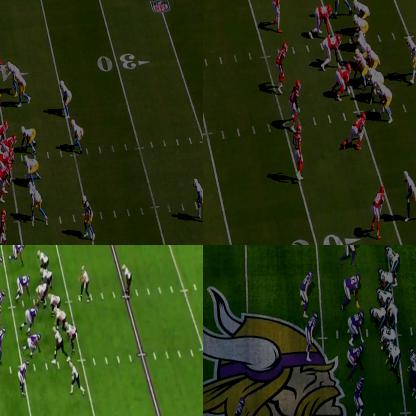CENTER: (351, 49, 367, 89), (368, 306, 384, 334), (2, 135, 19, 150), (36, 284, 46, 306)
DB: (370, 188, 384, 236), (272, 0, 285, 32), (193, 178, 202, 220), (18, 360, 28, 394), (233, 395, 247, 415), (8, 60, 20, 73)
LB: (15, 69, 29, 110), (288, 85, 300, 132), (302, 269, 314, 316), (293, 126, 303, 182), (305, 316, 317, 360), (70, 116, 84, 153), (276, 43, 286, 94), (353, 375, 364, 415), (84, 195, 94, 235), (62, 80, 72, 119), (0, 327, 5, 365), (0, 291, 5, 320), (0, 257, 3, 289)
QB: (77, 266, 91, 300), (387, 297, 397, 330), (368, 47, 379, 69)
SKILL: (403, 171, 415, 216), (121, 264, 134, 299), (406, 35, 415, 85), (385, 245, 400, 273), (52, 328, 65, 359), (408, 348, 415, 401), (64, 322, 78, 348), (352, 0, 371, 19), (70, 362, 82, 390), (0, 206, 7, 244), (0, 59, 3, 98)
